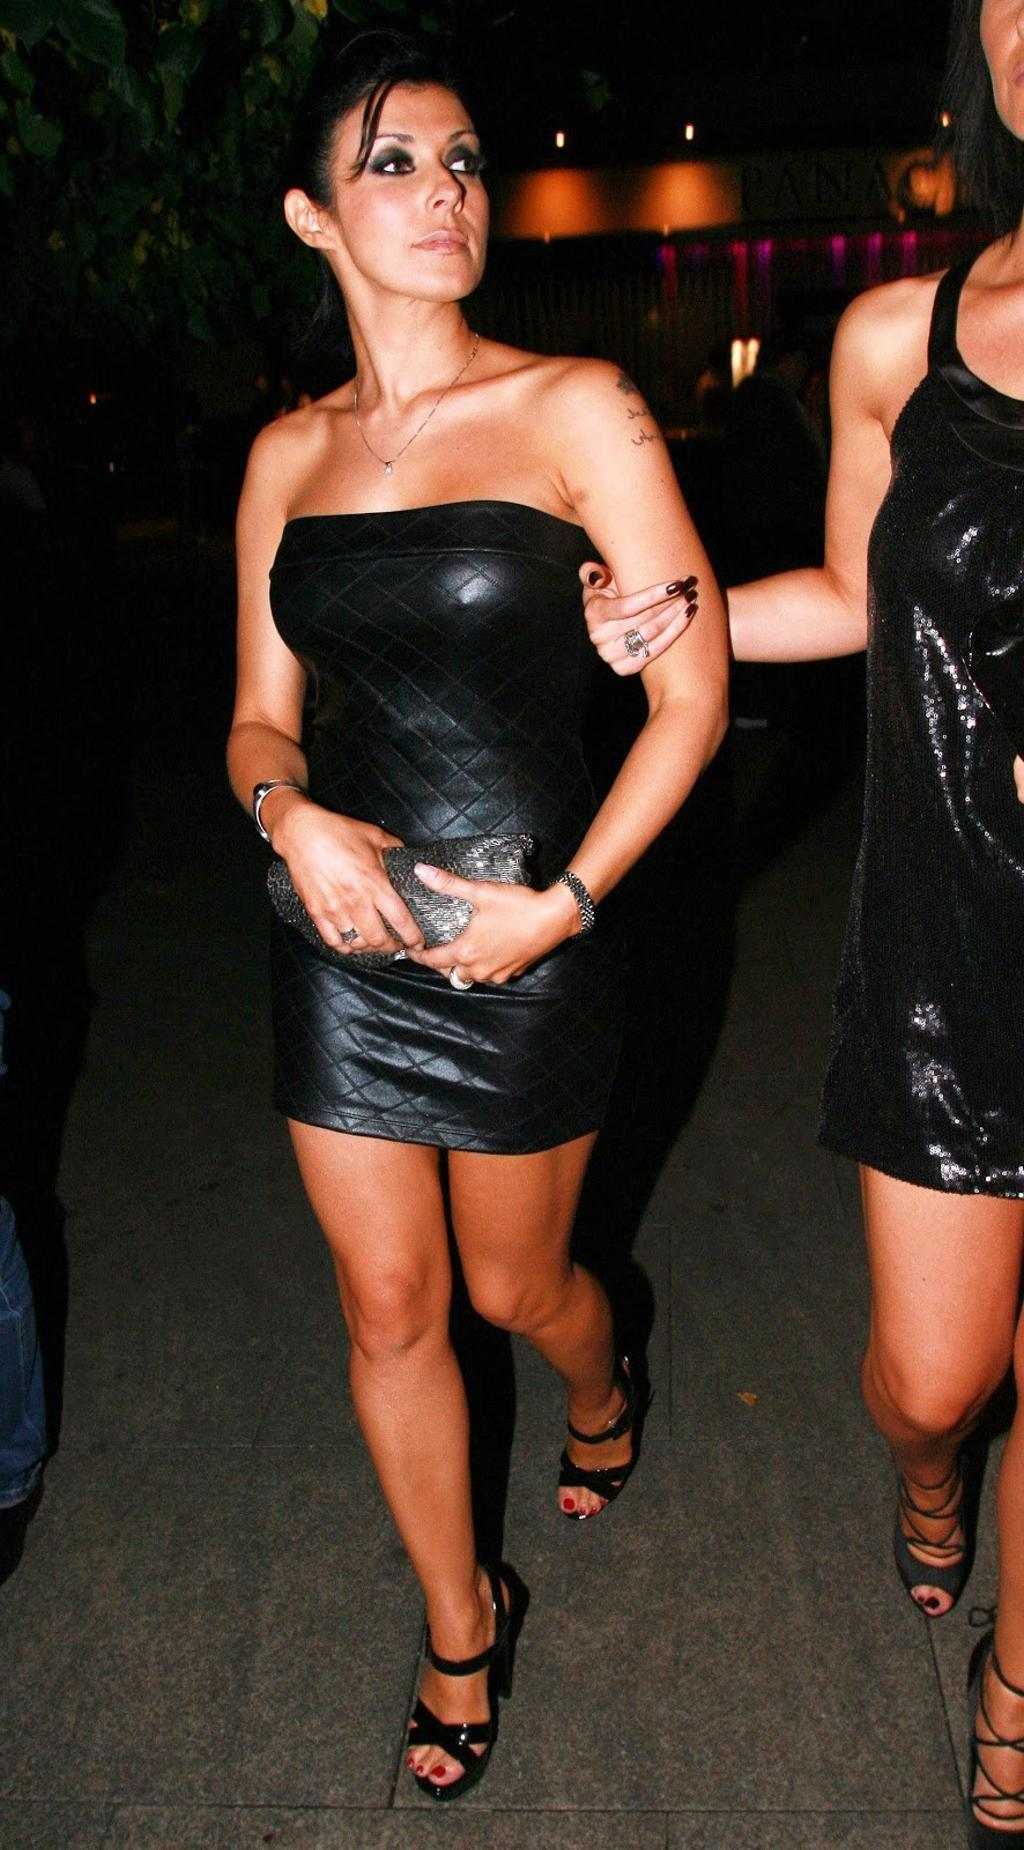face: (336, 91, 491, 297)
